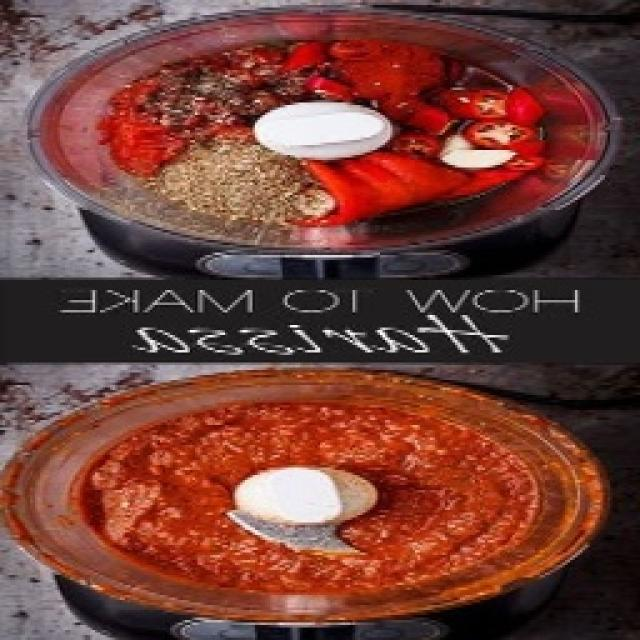Harissa: (10, 370, 612, 628)
